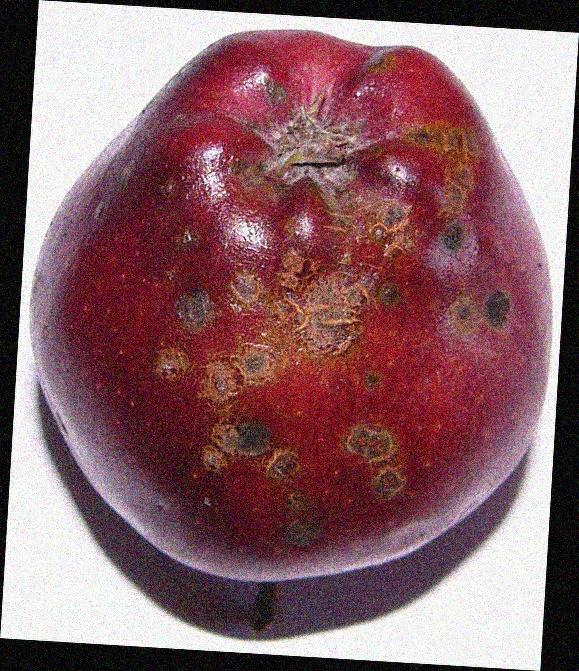rotten apple: (30, 30, 556, 599)
